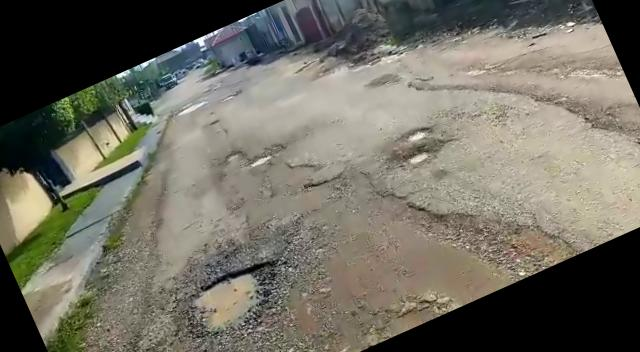pothole: (183, 256, 293, 348), (404, 124, 432, 146), (407, 148, 432, 166), (248, 153, 272, 169), (222, 148, 245, 164)
